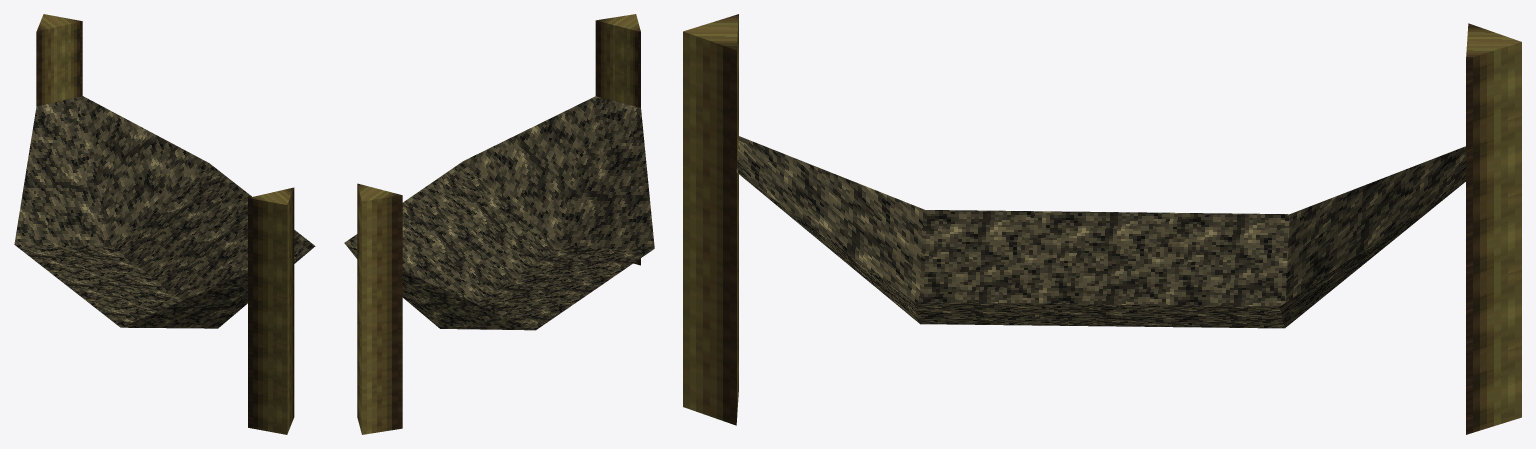
File: bed2.obj
3 renders of one model, left to right at view 1: azimuth 30°, elevation 25°; view 2: azimuth 150°, elevation 25°; view 3: azimuth 270°, elevation 25°, orthographic. The views are drawn at different scales.
Visible parts, largest first — view 1: bed2; view 2: bed2; view 3: bed2.
Part boxes in pixels (x1,y1,x2,y2): bed2: [14, 14, 315, 434]; bed2: [344, 14, 654, 434]; bed2: [683, 14, 1521, 434].
Bounding box in the file's own units: 0.0878 × 0.0977 × 0.1978.
2 materials, 2 textured.
